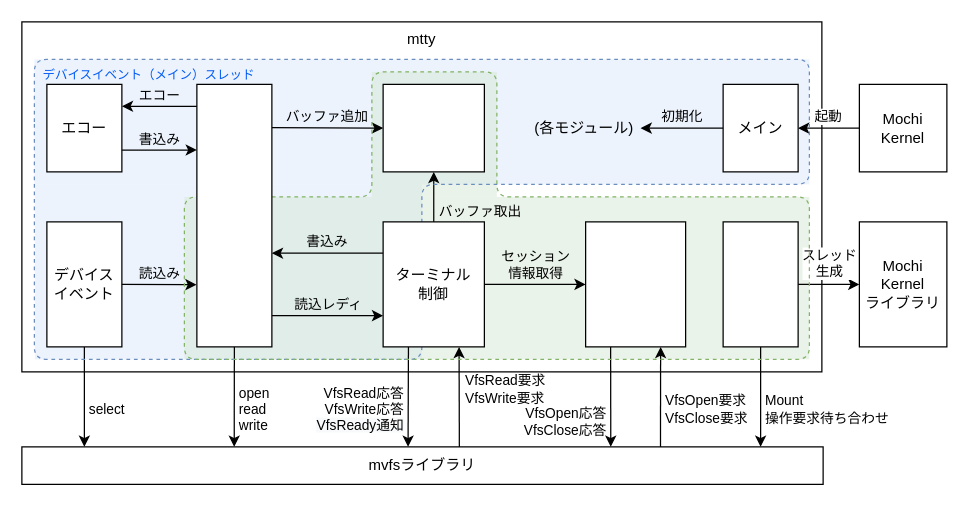
The diagram is 969 pixels wide and 506 high, and some of its shapes have lost their labels. The shapes that lost their labels are listed below. From the top down, each one's box as (x1, y1, x2, y2) in pixels, then its label:
(382, 83, 484, 172): バッファ管理
(196, 83, 272, 347): デバイス 制御
(184, 196, 809, 359): ユーザイベントスレッド
(584, 221, 686, 347): セッション 管理
(722, 221, 798, 347): ユーザ イベント
